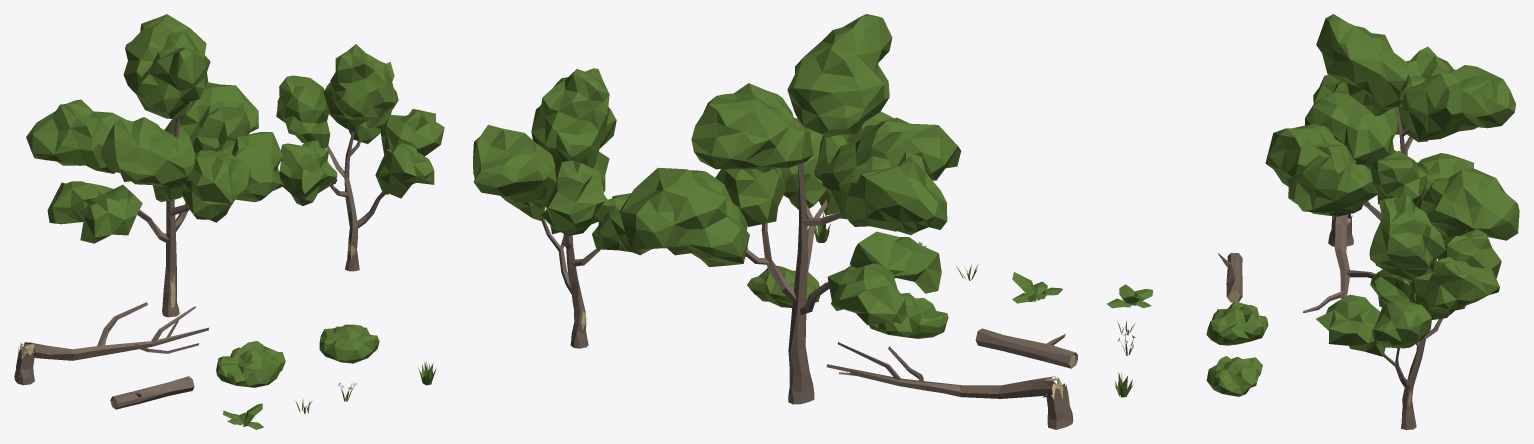
The model's file is Vegetation.fbx.
3 views of the same model, side by side, from view 1: azimuth 30°, elevation 25°; view 2: azimuth 150°, elevation 25°; view 3: azimuth 270°, elevation 25° (orthographic). The views are drawn at different scales.
Visible parts, largest first — view 1: Tree_1_2_LOD0, Tree_1_1_LOD0, FallenTree_1_2_2, Bush_1_1_LOD0, Bush_1_2_LOD0, FallenTree_1_1_LOD0, FallenTree_1_2_LOD0, Plant_1_1; view 2: Tree_1_2_LOD0, Tree_1_1_LOD0, FallenTree_1_2_2, Bush_1_1_LOD0, FallenTree_1_1_LOD0, Bush_1_2_LOD0, FallenTree_1_2_LOD0, Plant_1_1; view 3: Tree_1_2_LOD0, Tree_1_1_LOD0, Bush_1_1_LOD0, Bush_1_2_LOD0, FallenTree_1_2_2, FallenTree_1_1_LOD0, Plant_1_1.
Boxes of the visible parts, x1,y1,x2,y2 form: Tree_1_2_LOD0: (26,14,284,317); Tree_1_1_LOD0: (276,44,444,271); FallenTree_1_2_2: (23,302,208,360); Bush_1_1_LOD0: (216,341,285,387); Bush_1_2_LOD0: (319,324,379,363); FallenTree_1_1_LOD0: (110,376,194,409); FallenTree_1_2_LOD0: (14,342,36,385); Plant_1_1: (223,403,263,429); Tree_1_2_LOD0: (619,14,960,404); Tree_1_1_LOD0: (473,68,666,348); FallenTree_1_2_2: (826,342,1058,398); Bush_1_1_LOD0: (869,293,948,338); FallenTree_1_1_LOD0: (975,328,1077,368); Bush_1_2_LOD0: (747,265,820,307); FallenTree_1_2_LOD0: (1042,376,1073,429); Plant_1_1: (1012,272,1062,303); Tree_1_2_LOD0: (1265,14,1519,242); Tree_1_1_LOD0: (1316,193,1501,429); Bush_1_1_LOD0: (1206,301,1268,345); Bush_1_2_LOD0: (1206,356,1262,396); FallenTree_1_2_2: (1303,214,1375,312); FallenTree_1_1_LOD0: (1218,253,1242,302); Plant_1_1: (1107,284,1152,308).
Size of what is drawn, in the model's own units: 1969 by 1244 by 1488.
